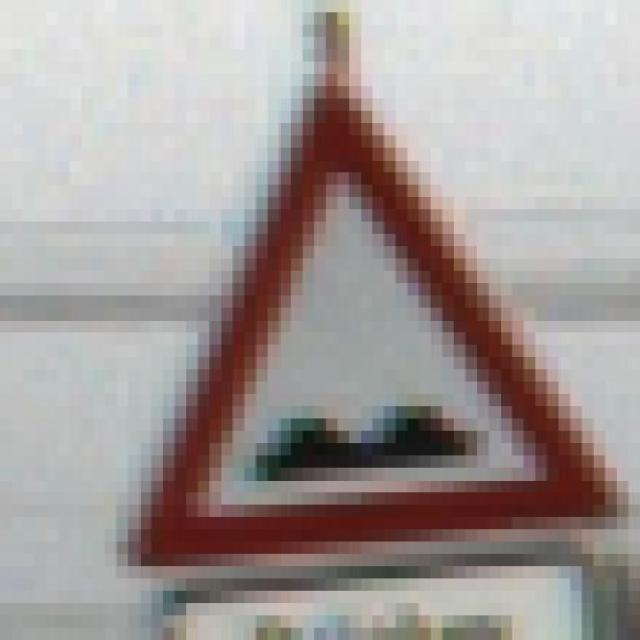Uneven Road: (117, 74, 617, 566)
